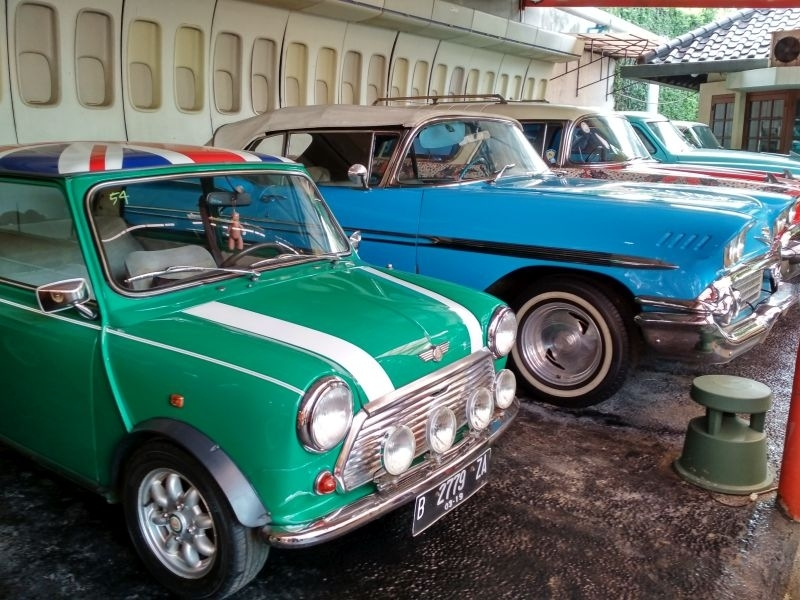plate: (415, 452, 498, 529)
